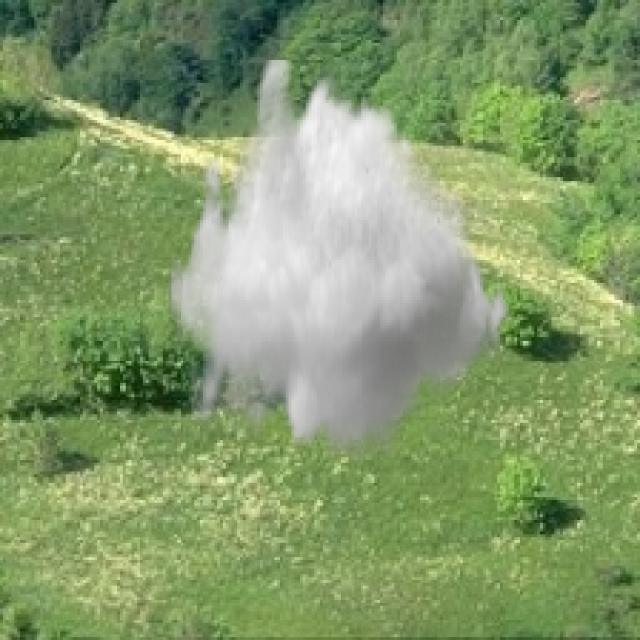smoke: (169, 57, 517, 463)
